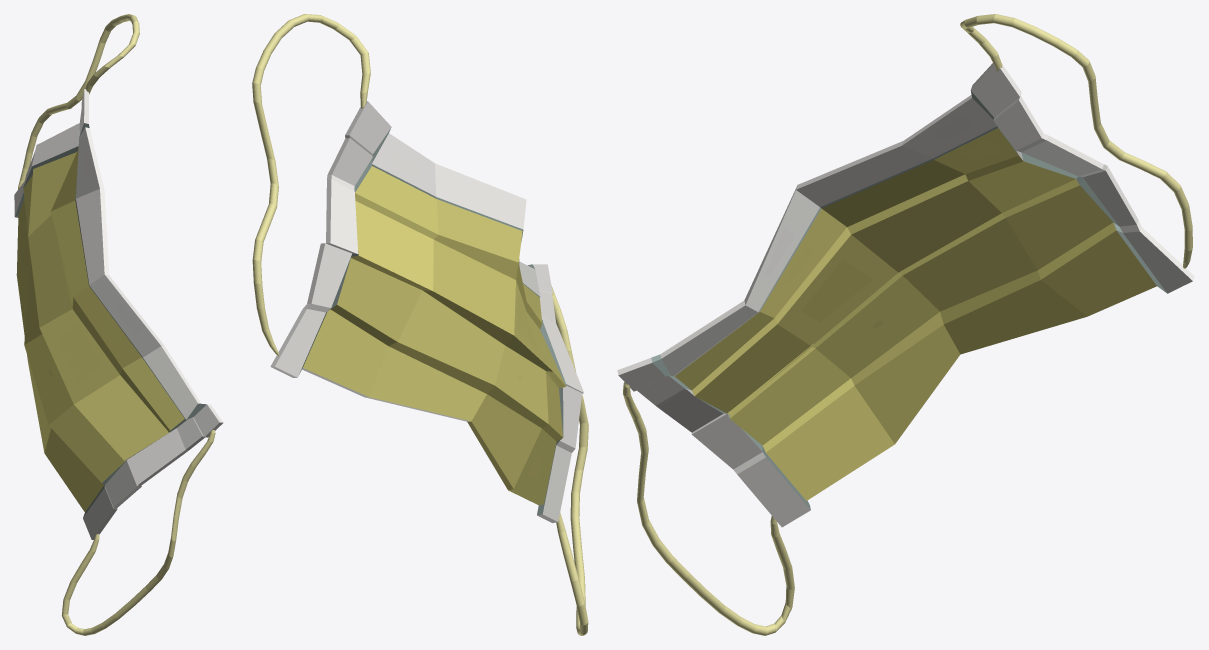
Rendered from máscaraAmarela.fbx.
3 views of the same model, side by side, from view 1: azimuth 30°, elevation 25°; view 2: azimuth 150°, elevation 25°; view 3: azimuth 270°, elevation 25° (orthographic). The views are drawn at different scales.
Visible parts, largest first — view 1: MáscaraAmarela; view 2: MáscaraAmarela; view 3: MáscaraAmarela.
Part boxes in pixels (x1,y1,x2,y2): MáscaraAmarela: (14, 14, 223, 635); MáscaraAmarela: (252, 14, 588, 635); MáscaraAmarela: (617, 14, 1194, 635).
Bounding box in the file's own units: 77.2 × 239 × 176.
